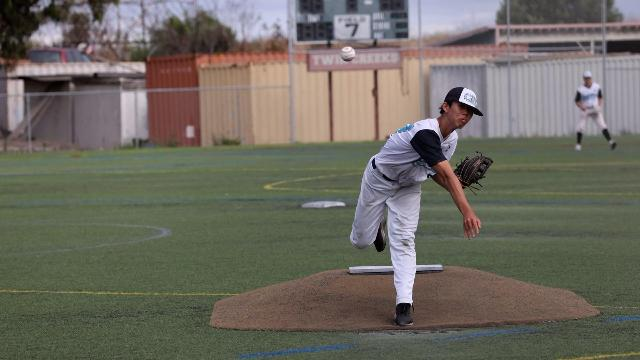sports ball: (340, 46, 356, 62)
